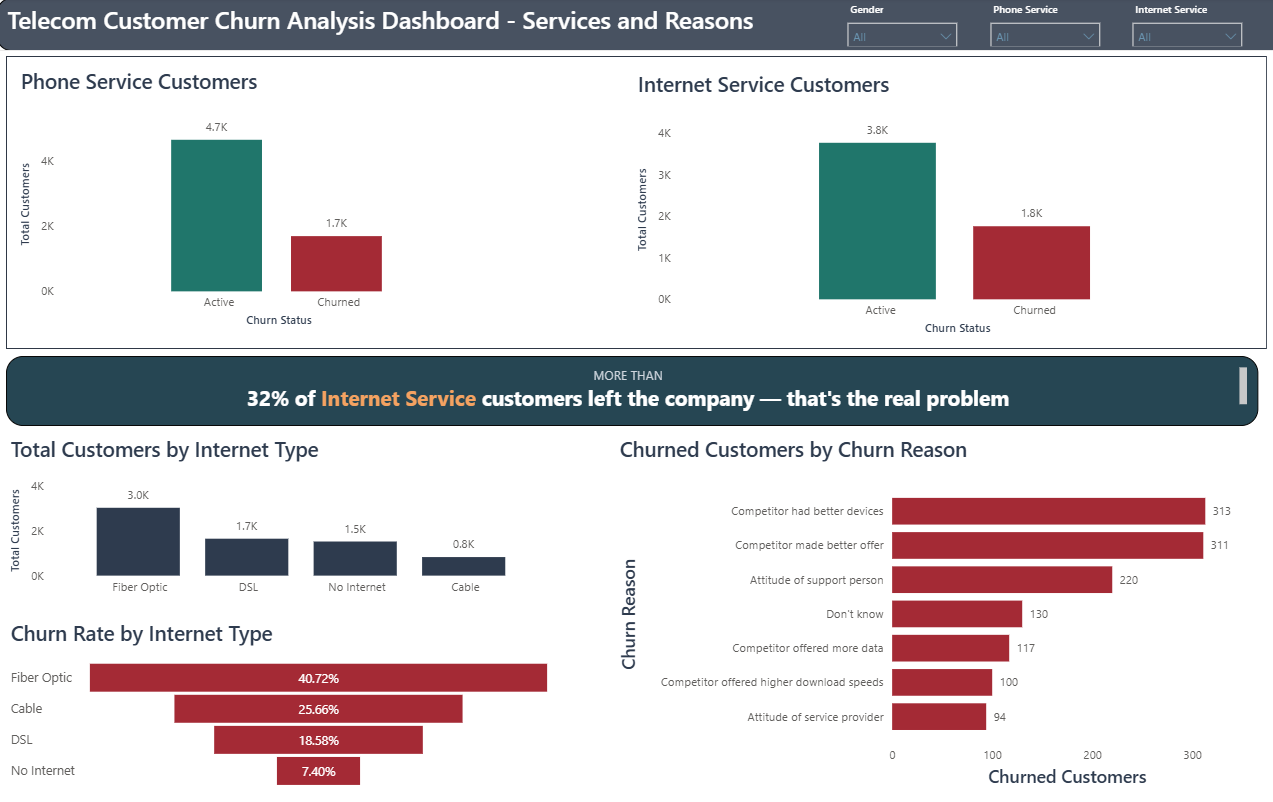

This screenshot's page, from the dashboard's own definition file:
{"tool":"powerbi","page":{"name":"Page 3","canvas":[1350,850],"ordinal":2},"visuals":[{"type":"textbox","title":"Telecom Customer Churn Analysis Dashboard - Services and Reasons","box":[0,0,1489.6,56],"z":0},{"type":"shape","box":[9.5,61.3,1333.1,309.8],"z":1000},{"type":"clusteredColumnChart","title":"Phone Service Customers","fields":{"Category":["Churn.Churn Status"],"Y":["Churn.Total Customers"]},"box":[20.5,73.3,511.1,280.2],"z":2000},{"type":"clusteredColumnChart","title":"Internet Service Customers","fields":{"Category":["Churn.Churn Status"],"Y":["Churn.Total Customers"]},"box":[672.4,76.1,641.7,285.4],"z":3000},{"type":"textbox","box":[9.6,378.1,1324.4,73.7],"z":4000},{"type":"funnel","fields":{"Category":["Churn.Internet Type"],"Y":["Churn.Churn Rate"]},"box":[9.6,656.8,582.1,183.7],"z":5000},{"type":"clusteredBarChart","fields":{"Category":["Churn.Churn Reason"],"Y":["Churn.Churned Customers"]},"box":[653.6,462.5,678.2,378.1],"z":6000},{"type":"slicer","fields":{"Values":["Churn.Gender"]},"box":[890.2,3.2,135.3,47.6],"z":7000},{"type":"slicer","fields":{"Values":["Churn.Phone Service"]},"box":[1041,3.2,135,47.6],"z":8000},{"type":"slicer","fields":{"Values":["Churn.Internet Service"]},"box":[1191.5,3.2,135,47.6],"z":9000},{"type":"clusteredColumnChart","fields":{"Category":["Churn.Internet Type"],"Y":["Churn.Total Customers"]},"box":[9.5,462,582.5,178.7],"z":10000}]}

Visuals, with their boxes in screenshot pixels (x1, y1, x2, y2), scaled from the page's 1350x850 canvas onto the 1273x802 screenshot:
"Telecom Customer Churn Analysis Dashboard - Services and Reasons" textbox: detection(0, 0, 1272, 53)
shape: detection(9, 58, 1266, 350)
"Phone Service Customers" clusteredColumnChart: detection(19, 69, 501, 334)
"Internet Service Customers" clusteredColumnChart: detection(634, 72, 1239, 341)
textbox: detection(9, 357, 1258, 426)
funnel - Churn.Internet Type x Churn.Churn Rate: detection(9, 620, 558, 793)
clusteredBarChart - Churn.Churn Reason x Churn.Churned Customers: detection(616, 436, 1256, 793)
slicer - Churn.Gender: detection(839, 3, 967, 48)
slicer - Churn.Phone Service: detection(982, 3, 1109, 48)
slicer - Churn.Internet Service: detection(1124, 3, 1251, 48)
clusteredColumnChart - Churn.Internet Type x Churn.Total Customers: detection(9, 436, 558, 605)
